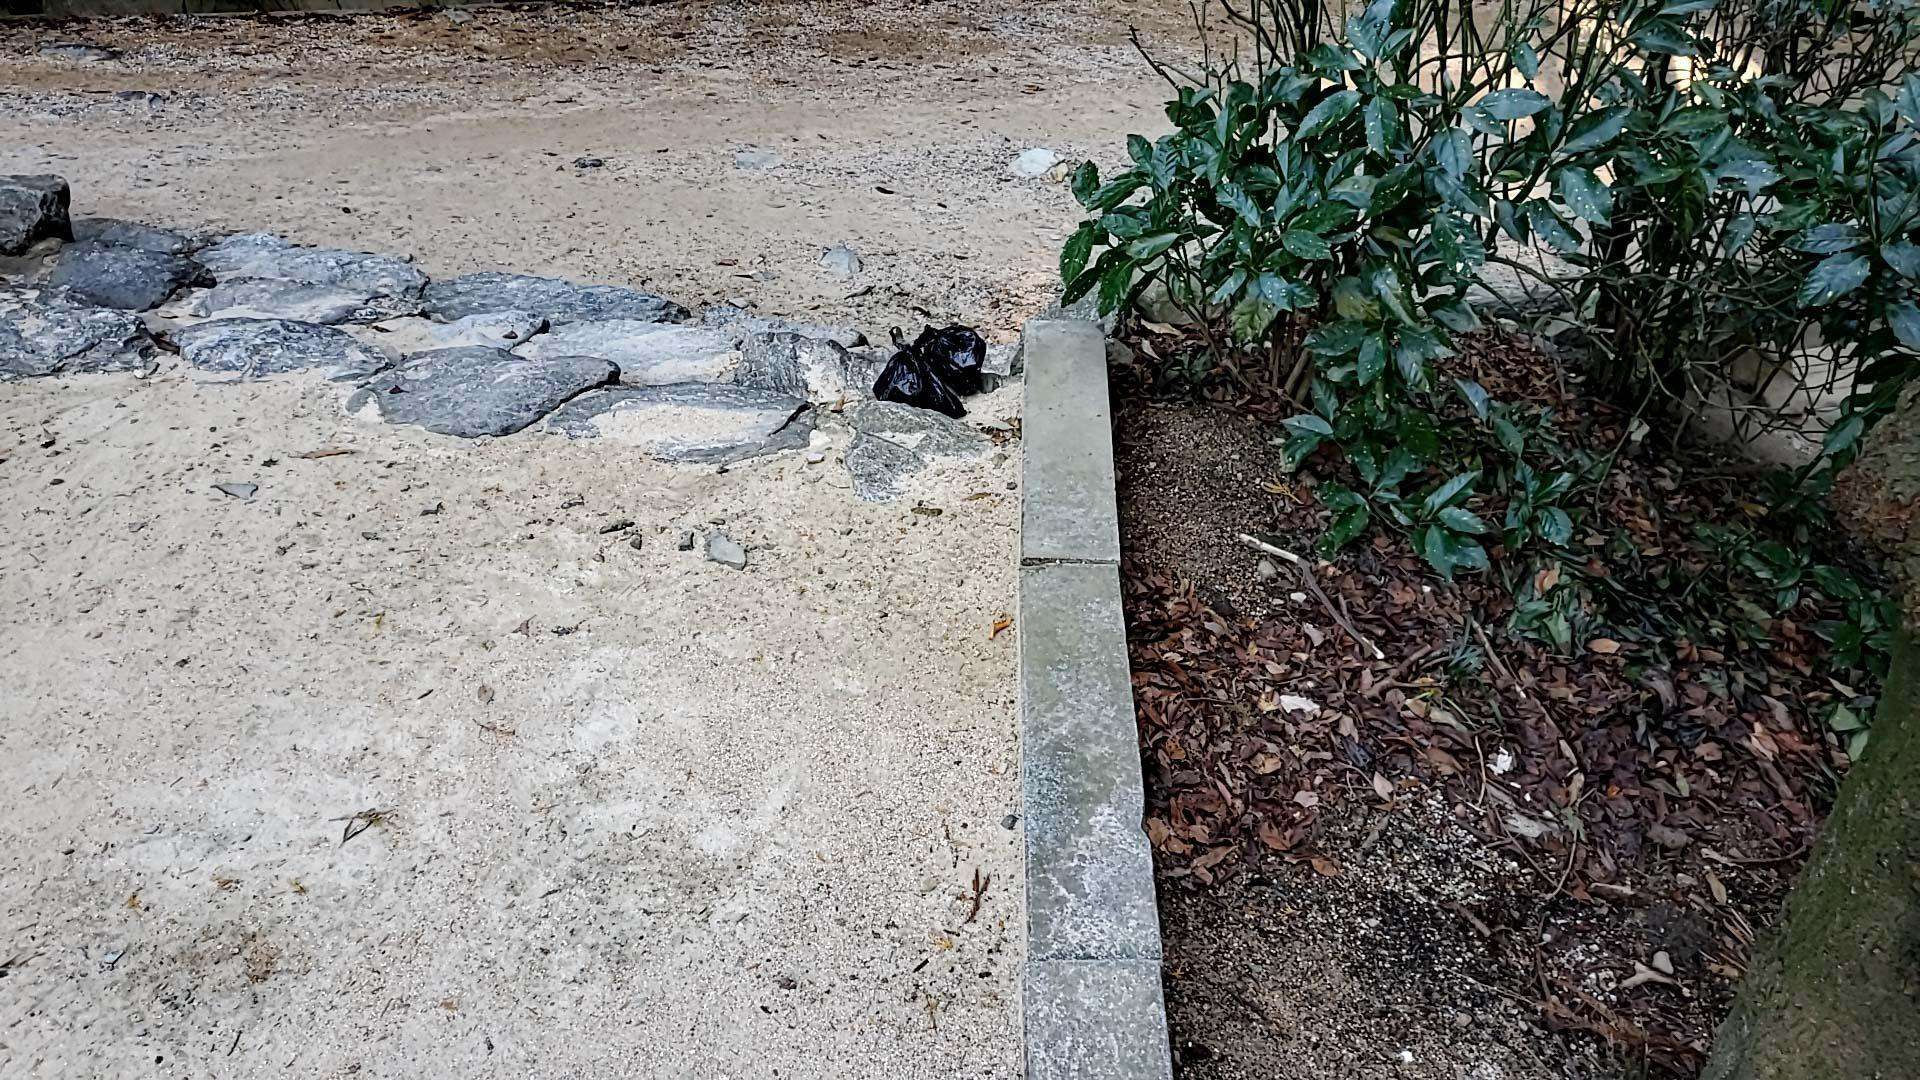black_bag: (869, 323, 968, 419), (923, 320, 988, 396)
